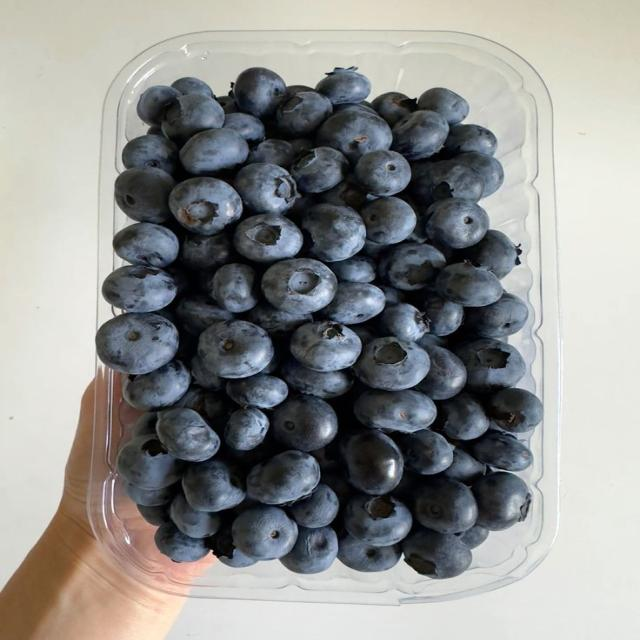blueberry: (95, 314, 178, 374), (198, 321, 273, 378), (169, 178, 242, 235), (262, 259, 338, 313), (340, 430, 403, 495), (354, 336, 429, 390), (317, 111, 393, 162), (247, 451, 319, 504), (455, 339, 526, 392), (273, 395, 338, 452), (301, 204, 366, 261), (232, 505, 298, 560), (117, 436, 185, 489), (414, 477, 478, 533), (290, 321, 361, 371), (344, 494, 412, 546), (354, 390, 436, 433), (472, 472, 532, 530), (102, 265, 176, 312), (114, 167, 175, 223), (182, 458, 245, 512), (122, 361, 190, 411), (411, 160, 485, 205), (403, 530, 472, 578), (157, 408, 219, 461), (180, 128, 248, 176), (234, 214, 302, 262), (162, 94, 224, 146), (234, 163, 298, 213), (426, 198, 489, 248), (379, 243, 446, 290), (436, 261, 503, 307), (460, 230, 521, 279), (113, 223, 179, 268), (282, 359, 353, 399), (417, 342, 466, 399), (392, 111, 449, 160), (466, 293, 528, 338), (321, 282, 386, 324), (280, 527, 338, 574), (291, 147, 348, 193), (276, 91, 333, 137), (234, 68, 286, 118), (360, 197, 416, 243), (354, 151, 411, 196), (208, 263, 259, 313), (470, 432, 532, 471), (487, 389, 543, 432), (400, 429, 453, 474), (175, 295, 233, 336), (439, 393, 489, 440), (247, 303, 313, 338), (338, 535, 400, 572), (455, 152, 504, 197), (170, 494, 220, 538), (289, 484, 339, 528), (122, 135, 178, 174), (207, 524, 256, 568), (155, 523, 209, 562), (227, 374, 288, 408), (316, 67, 371, 104), (180, 232, 233, 270), (377, 303, 428, 341), (225, 438, 280, 473), (225, 407, 269, 450), (418, 88, 469, 125), (422, 292, 464, 335), (137, 86, 181, 125), (320, 175, 369, 210), (444, 124, 497, 155), (443, 448, 486, 484), (372, 92, 416, 126), (399, 191, 427, 243), (122, 481, 179, 506), (247, 139, 294, 168), (321, 464, 355, 504), (223, 113, 265, 144), (204, 391, 234, 434), (164, 384, 206, 414), (190, 355, 225, 390), (330, 256, 375, 283), (392, 464, 421, 504), (287, 188, 319, 223), (165, 261, 193, 296), (171, 77, 213, 97), (458, 525, 489, 549), (219, 549, 257, 568), (137, 505, 170, 526), (132, 412, 157, 438), (360, 239, 388, 262), (350, 323, 378, 345), (377, 284, 406, 304), (334, 103, 377, 115), (288, 138, 314, 157), (418, 333, 447, 349), (216, 96, 239, 115), (286, 85, 315, 96), (146, 126, 162, 136)
